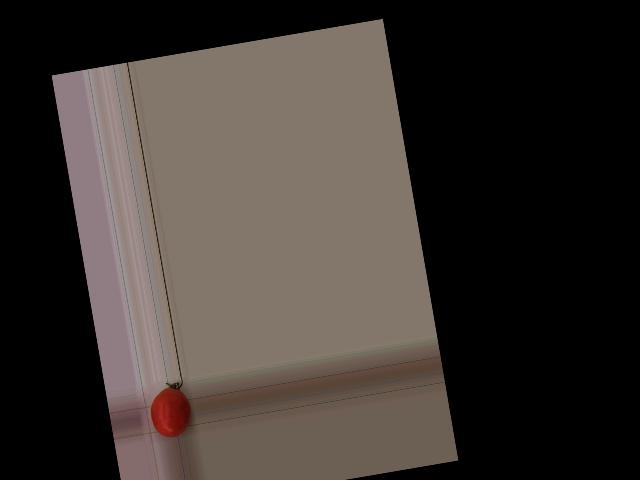tomato: (146, 384, 194, 440)
